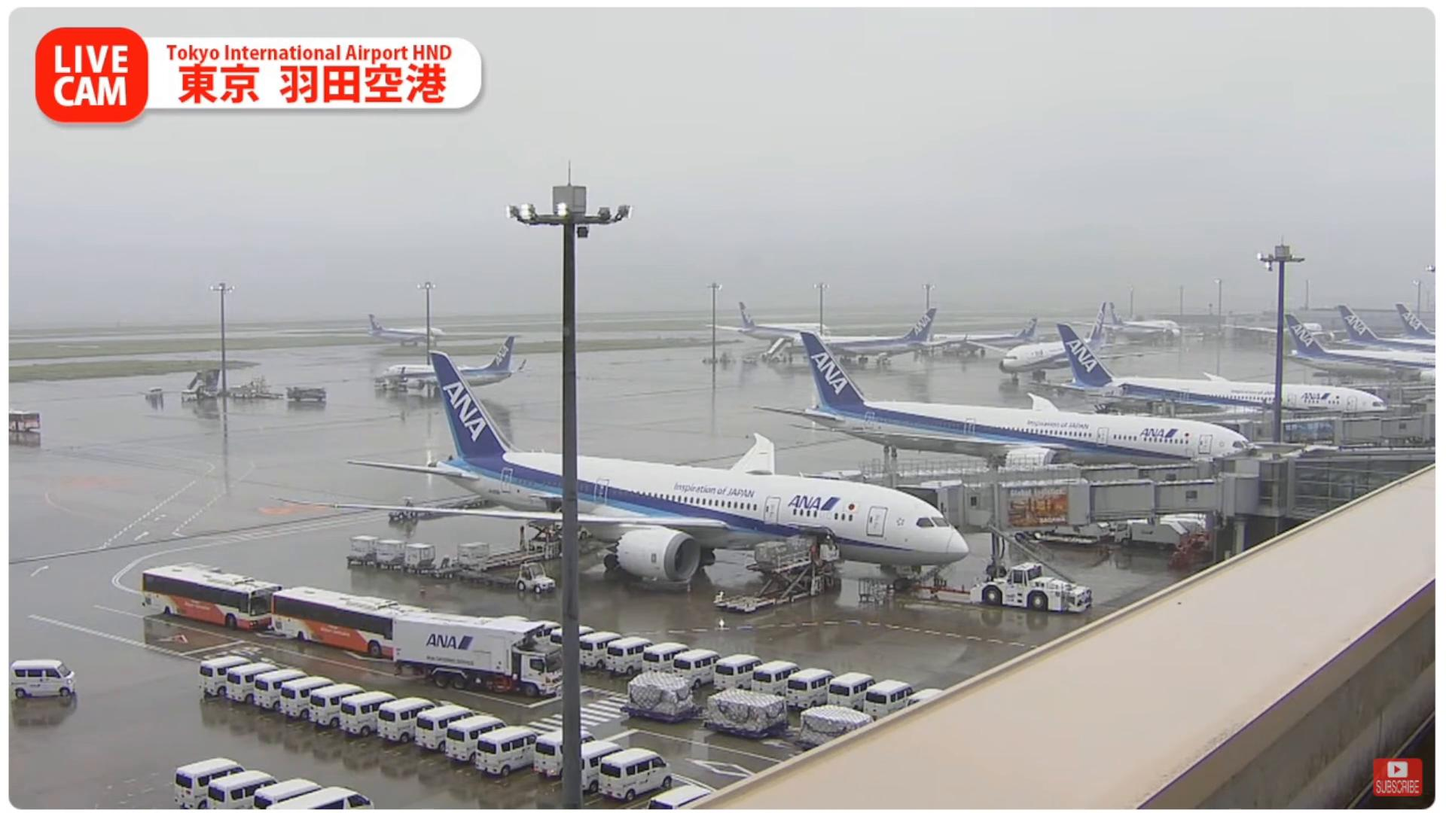APS: (968, 562, 1094, 614)
Aerobridge: (892, 474, 1261, 535), (796, 455, 1210, 487)
Airplane: (270, 351, 970, 592)
Catering: (392, 610, 565, 698)
Dolly: (346, 551, 516, 588)
JCPL: (711, 554, 833, 609), (462, 522, 563, 573)
Tractor: (515, 563, 556, 594)
Window: (1292, 458, 1433, 516)
